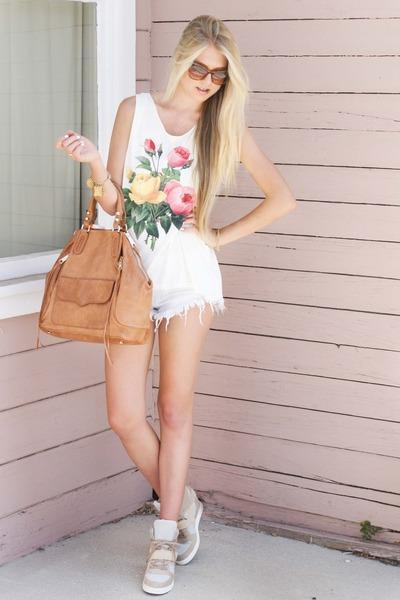bag: (39, 228, 155, 351)
dress: (118, 83, 224, 327)
shoe: (143, 485, 206, 599)
sunglass: (188, 60, 230, 97)
